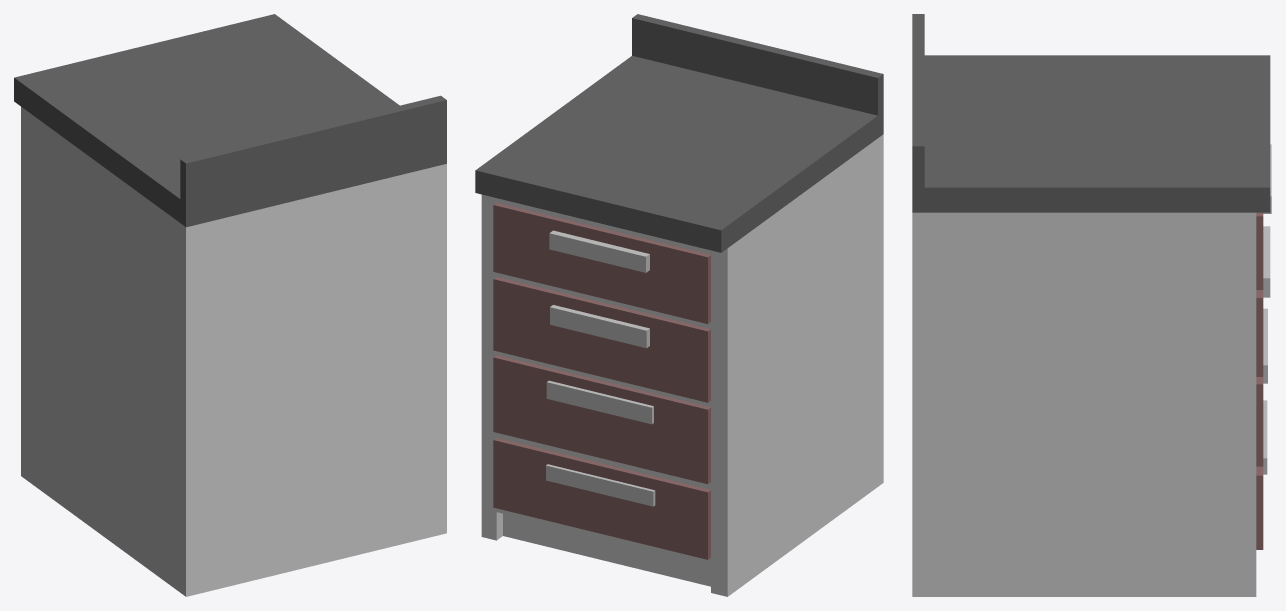
Rendered from ObsCabinetDrawers.fbx.
3 views of the same model, side by side, from view 1: azimuth 30°, elevation 25°; view 2: azimuth 150°, elevation 25°; view 3: azimuth 270°, elevation 25° (orthographic). The views are drawn at different scales.
Parts seen in each view (by area): view 1: polySurface4; view 2: polySurface4; view 3: polySurface4.
Part boxes in pixels (<box>): polySurface4: <box>14,14,446,596</box>; polySurface4: <box>475,14,883,596</box>; polySurface4: <box>912,14,1271,596</box>.
Bounding box in the file's own units: 193 × 307 × 222.
